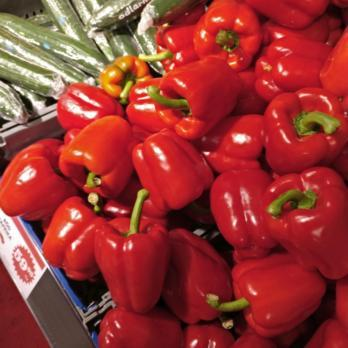Capsicum: (162, 0, 348, 348), (53, 57, 235, 315), (0, 138, 348, 220)
